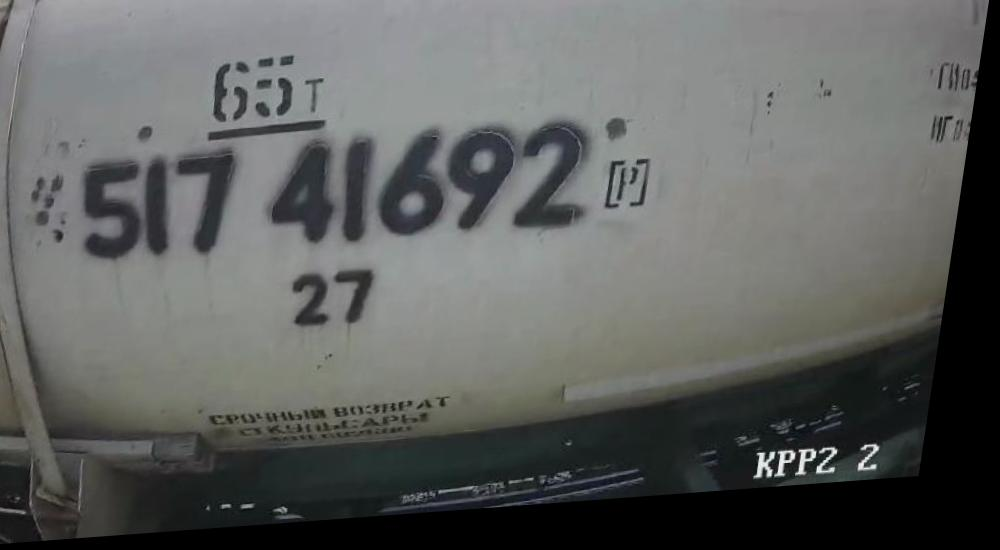Wagon-number: (75, 121, 609, 271)
